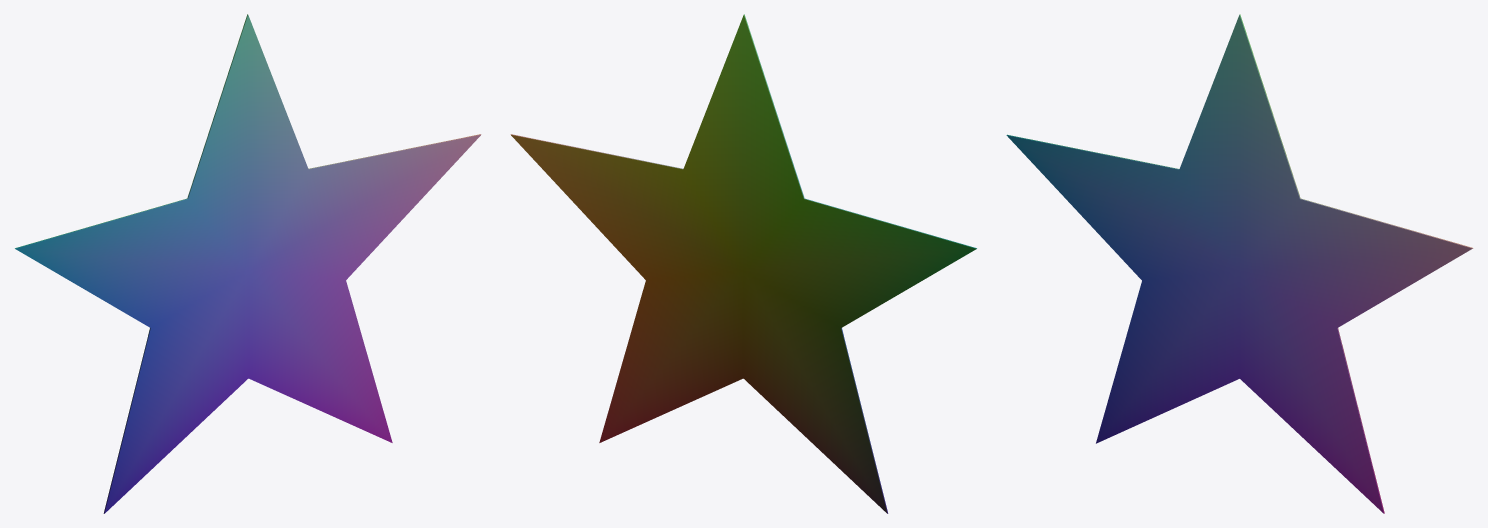
The model's file is zeometry-flat-shapes-flat-star_v5.glb.
3 views of the same model, side by side, from view 1: azimuth 30°, elevation 25°; view 2: azimuth 150°, elevation 25°; view 3: azimuth 330°, elevation 25° (orthographic).
Parts seen in each view (by area): view 1: Flat Star_v5; view 2: Flat Star_v5; view 3: Flat Star_v5.
Boxes of the visible parts, x1,y1,x2,y2 form: Flat Star_v5: [15, 14, 481, 513]; Flat Star_v5: [510, 14, 976, 513]; Flat Star_v5: [1006, 14, 1473, 513].
Size of the model in its own units: 0.5 by 0.4757 by 0.0014.
